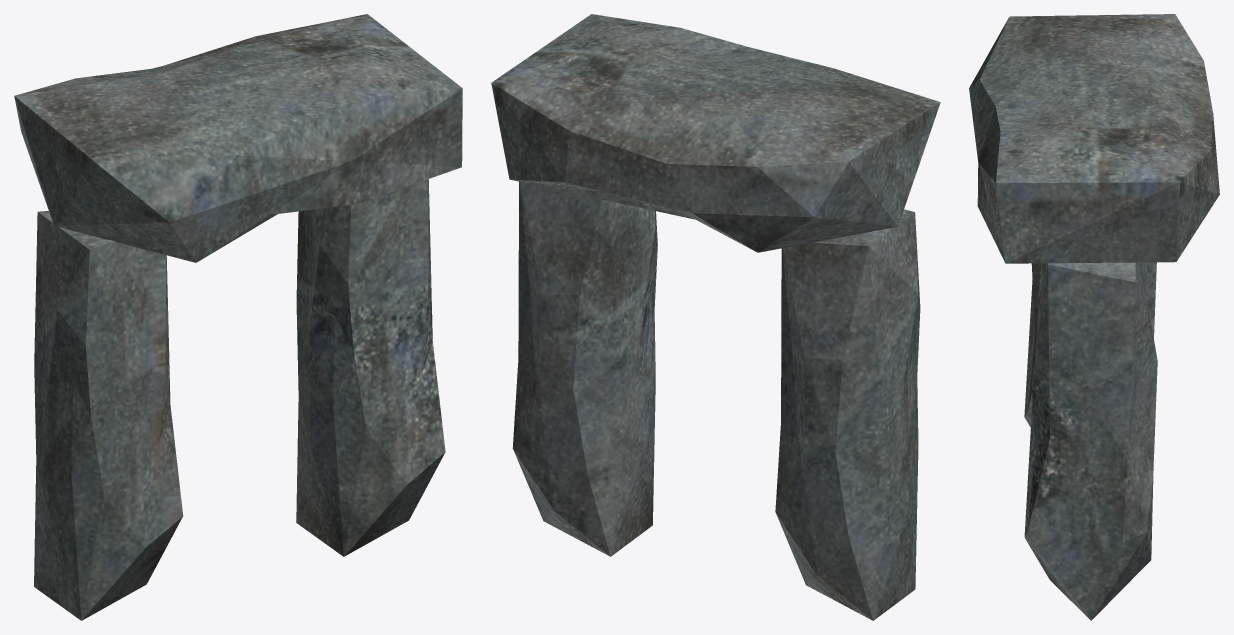
File: stonehenge.fbx
The picture shows the model from 3 angles, left to right: view 1: azimuth 30°, elevation 25°; view 2: azimuth 150°, elevation 25°; view 3: azimuth 270°, elevation 25°; orthographic projection. The views are drawn at different scales.
Visible parts, largest first — view 1: stonehenge:Mesh; view 2: stonehenge:Mesh; view 3: stonehenge:Mesh.
Part boxes in pixels (x1,y1,x2,y2): stonehenge:Mesh: [14, 14, 462, 620]; stonehenge:Mesh: [491, 14, 940, 620]; stonehenge:Mesh: [969, 14, 1219, 620].
Bounding box in the file's own units: 202 × 253 × 126.
Materials: 1 (1 with a texture image).
